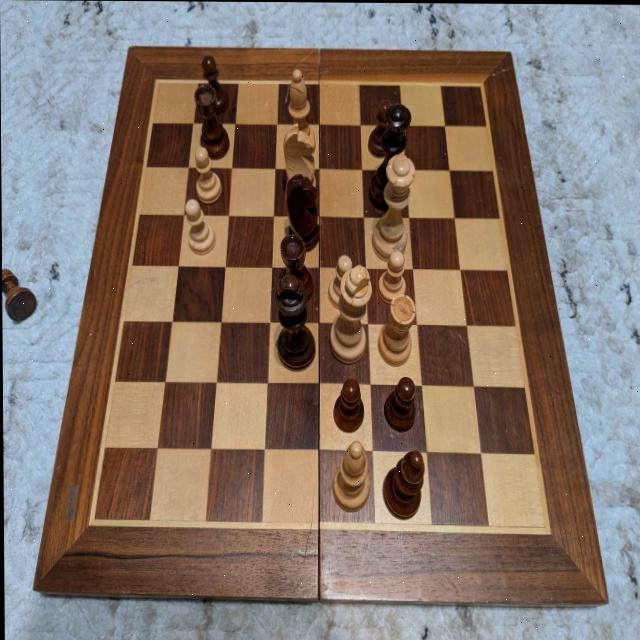black_bishop: (382, 448, 425, 517)
black_king: (274, 268, 314, 365)
black_knight: (284, 173, 319, 248)
black_pawn: (383, 376, 417, 431), (201, 54, 230, 118), (332, 378, 365, 432), (368, 99, 394, 157)
black_queen: (368, 102, 412, 210)
black_rook: (195, 81, 228, 154), (280, 233, 312, 300)
white_bishop: (330, 439, 369, 512), (286, 69, 316, 155)
white_king: (328, 260, 371, 362)
white_knight: (283, 122, 316, 202)
white_pawn: (377, 247, 408, 305), (184, 197, 216, 253), (192, 145, 222, 203), (326, 253, 353, 308)
white_queen: (370, 154, 416, 262)
white_rook: (377, 292, 416, 363)
